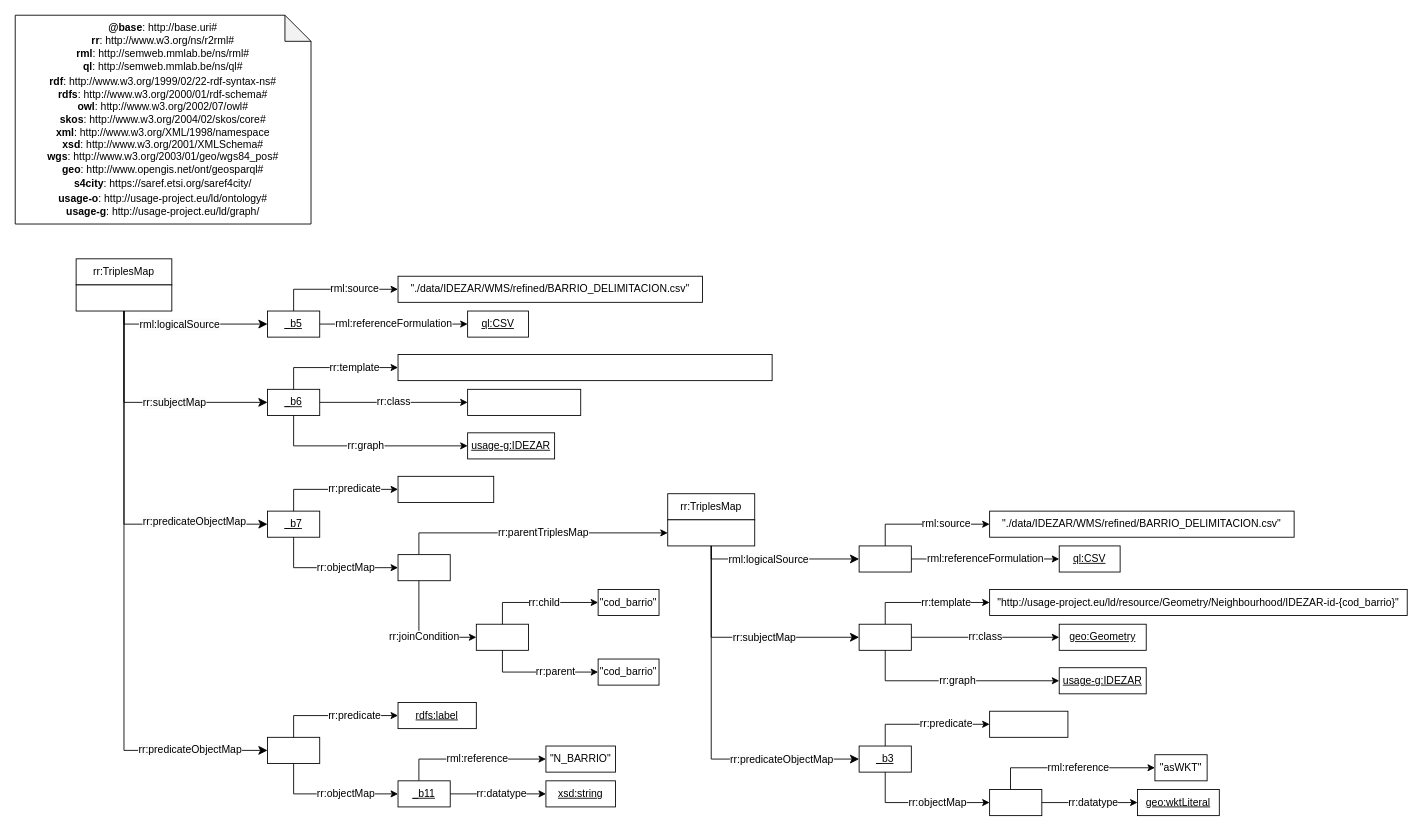
The diagram is 1422 pixels wide and 831 high, and some of its shapes have lost their labels. Here are the shapes that lost their labels. From the top down, the box of each, then its label:
(75, 284, 172, 311): <#Neighbourhood>
(397, 354, 772, 381): "http://usage-project.eu/ld/resource/Neighbourhood/IDEZAR-id-{cod_barrio}"
(467, 388, 581, 415): s4city:Neighbourhood
(397, 475, 494, 502): geo:hasGeometry
(667, 519, 755, 546): <#Geometry>
(397, 554, 450, 581): _b8
(858, 545, 911, 572): _b1
(475, 623, 529, 650): _b9
(858, 623, 911, 650): _b2
(989, 710, 1068, 737): geo:asWKT
(267, 736, 320, 763): _b10
(989, 789, 1042, 816): _b4
